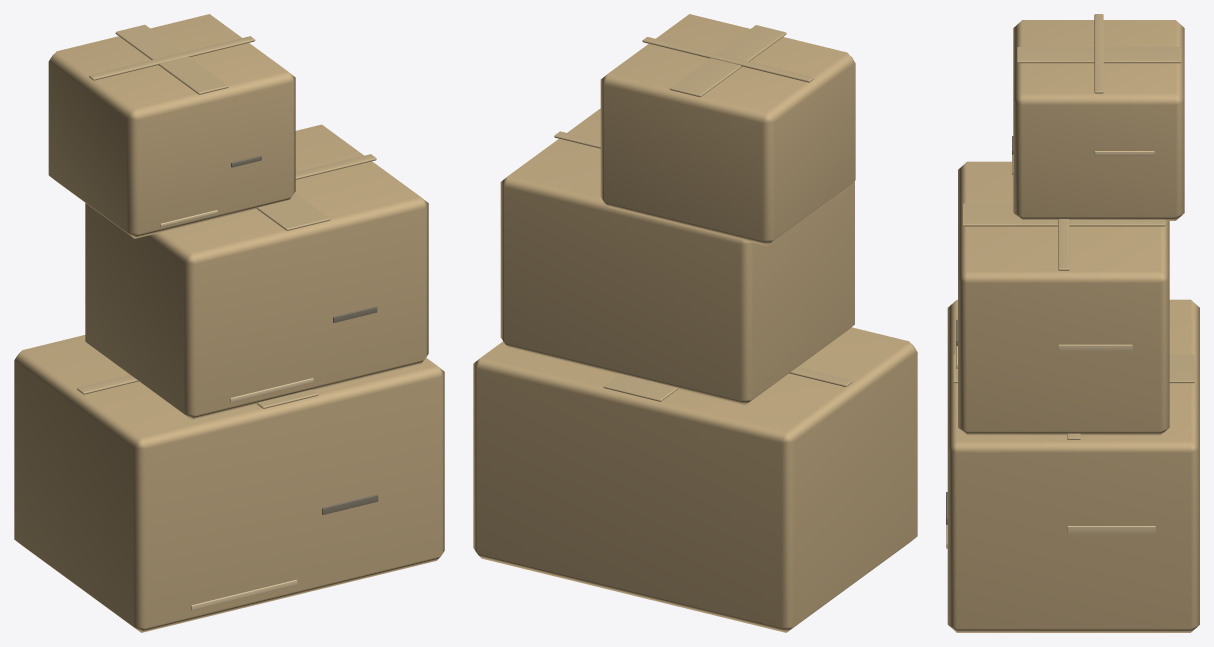
The model's file is Box_Stack_3_A.glb.
3 renders of one model, left to right at view 1: azimuth 30°, elevation 25°; view 2: azimuth 150°, elevation 25°; view 3: azimuth 270°, elevation 25°, orthographic. The views are drawn at different scales.
Parts seen in each view (by area): view 1: Box_Stack_3_A_bottom_body, Box_Stack_3_A_mid_body, Box_Stack_3_A_top_body, Box_Stack_3_A_top_top_tape_long, Box_Stack_3_A_mid_top_tape_long, Box_Stack_3_A_top_top_tape_cross, Box_Stack_3_A_mid_top_tape_cross, Box_Stack_3_A_bottom_front_bottom_wear; view 2: Box_Stack_3_A_bottom_body, Box_Stack_3_A_mid_body, Box_Stack_3_A_top_body, Box_Stack_3_A_top_top_tape_long, Box_Stack_3_A_top_top_tape_cross, Box_Stack_3_A_bottom_top_tape_long; view 3: Box_Stack_3_A_bottom_body, Box_Stack_3_A_mid_body, Box_Stack_3_A_top_body, Box_Stack_3_A_top_top_tape_long, Box_Stack_3_A_mid_top_tape_long, Box_Stack_3_A_bottom_top_tape_long, Box_Stack_3_A_top_top_tape_cross, Box_Stack_3_A_bottom_side_edge_wear, Box_Stack_3_A_mid_top_tape_cross, Box_Stack_3_A_mid_side_edge_wear.
Part boxes in pixels (x1,y1,x2,y2): Box_Stack_3_A_bottom_body: (14, 335, 444, 632); Box_Stack_3_A_mid_body: (85, 124, 428, 419); Box_Stack_3_A_top_body: (48, 14, 295, 238); Box_Stack_3_A_top_top_tape_long: (115, 24, 228, 94); Box_Stack_3_A_mid_top_tape_long: (256, 193, 330, 230); Box_Stack_3_A_top_top_tape_cross: (89, 36, 255, 80); Box_Stack_3_A_mid_top_tape_cross: (295, 154, 376, 179); Box_Stack_3_A_bottom_front_bottom_wear: (191, 579, 297, 610); Box_Stack_3_A_bottom_body: (473, 327, 917, 632); Box_Stack_3_A_mid_body: (500, 108, 854, 405); Box_Stack_3_A_top_body: (600, 14, 855, 245); Box_Stack_3_A_top_top_tape_long: (669, 25, 786, 97); Box_Stack_3_A_top_top_tape_cross: (642, 37, 813, 82); Box_Stack_3_A_bottom_top_tape_long: (603, 374, 677, 401); Box_Stack_3_A_bottom_body: (947, 299, 1199, 632); Box_Stack_3_A_mid_body: (958, 161, 1169, 435); Box_Stack_3_A_top_body: (1013, 20, 1184, 220); Box_Stack_3_A_top_top_tape_long: (1016, 47, 1181, 63); Box_Stack_3_A_mid_top_tape_long: (962, 203, 1165, 226); Box_Stack_3_A_bottom_top_tape_long: (953, 354, 1194, 383); Box_Stack_3_A_top_top_tape_cross: (1094, 14, 1103, 93); Box_Stack_3_A_bottom_side_edge_wear: (1067, 526, 1155, 533); Box_Stack_3_A_mid_top_tape_cross: (1058, 219, 1069, 270); Box_Stack_3_A_mid_side_edge_wear: (1058, 344, 1132, 350).
Bounding box in the file's own units: 0.7034 × 1.07 × 0.5035.
